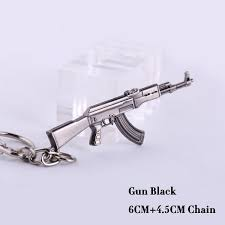gun: (45, 71, 194, 151)
